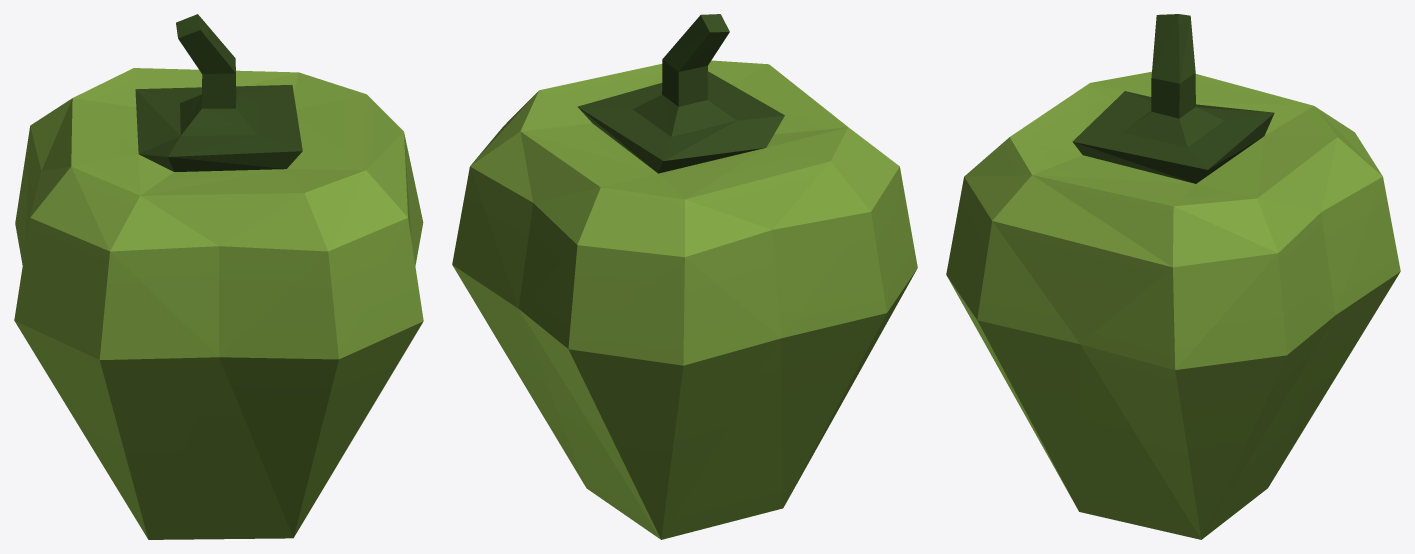
The model's file is Pepper_01.fbx.
3 renders of one model, left to right at view 1: azimuth 30°, elevation 25°; view 2: azimuth 150°, elevation 25°; view 3: azimuth 270°, elevation 25°, orthographic. The views are drawn at different scales.
Visible parts, largest first — view 1: Pepper_01; view 2: Pepper_01; view 3: Pepper_01.
Boxes of the visible parts, x1,y1,x2,y2 form: Pepper_01: (14, 14, 423, 539); Pepper_01: (452, 14, 917, 539); Pepper_01: (946, 14, 1400, 539).
Size of the model in its own units: 0.1917 by 0.2302 by 0.1917.
